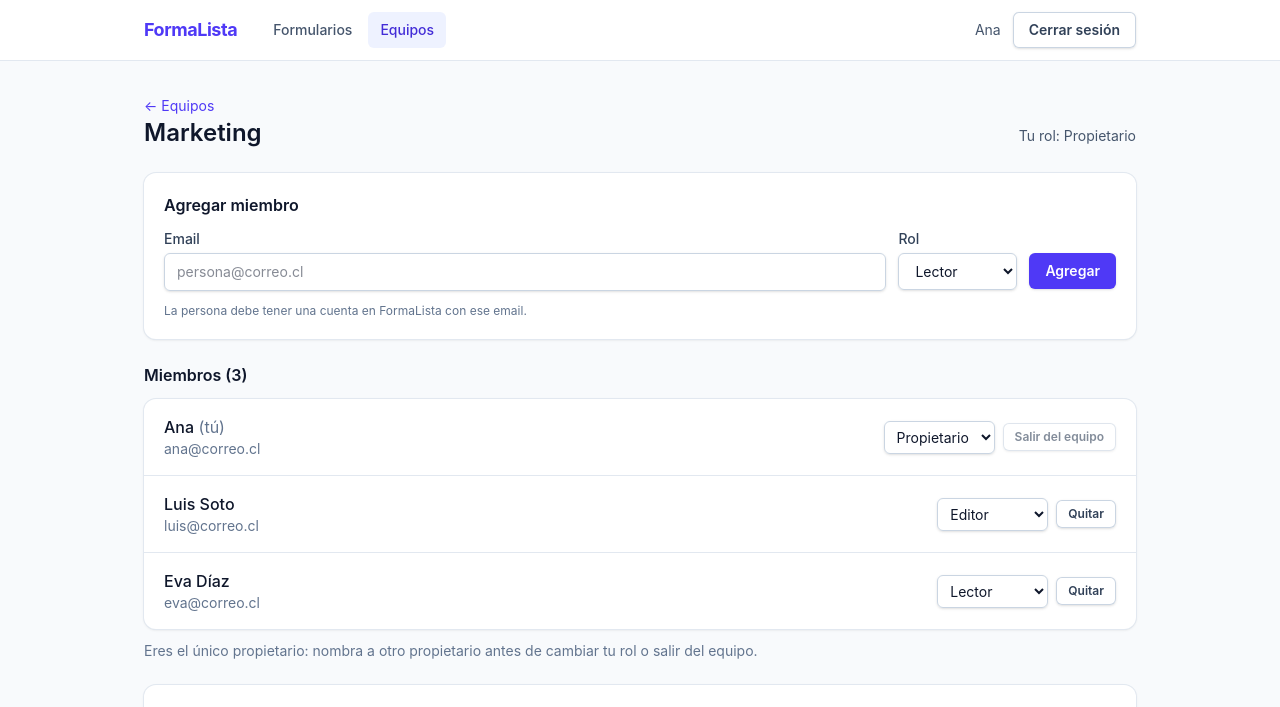
Test: Equipos: miembros (como propietaria) › agrega un miembro como Lector por defecto, lo anuncia y deja el foco en el email
The image size is (1280, 707).
Step 1. Type "pepe@correo.cl" into the field labelled "Email" → point(525, 272), box x1=164 y1=253 x2=886 y2=291
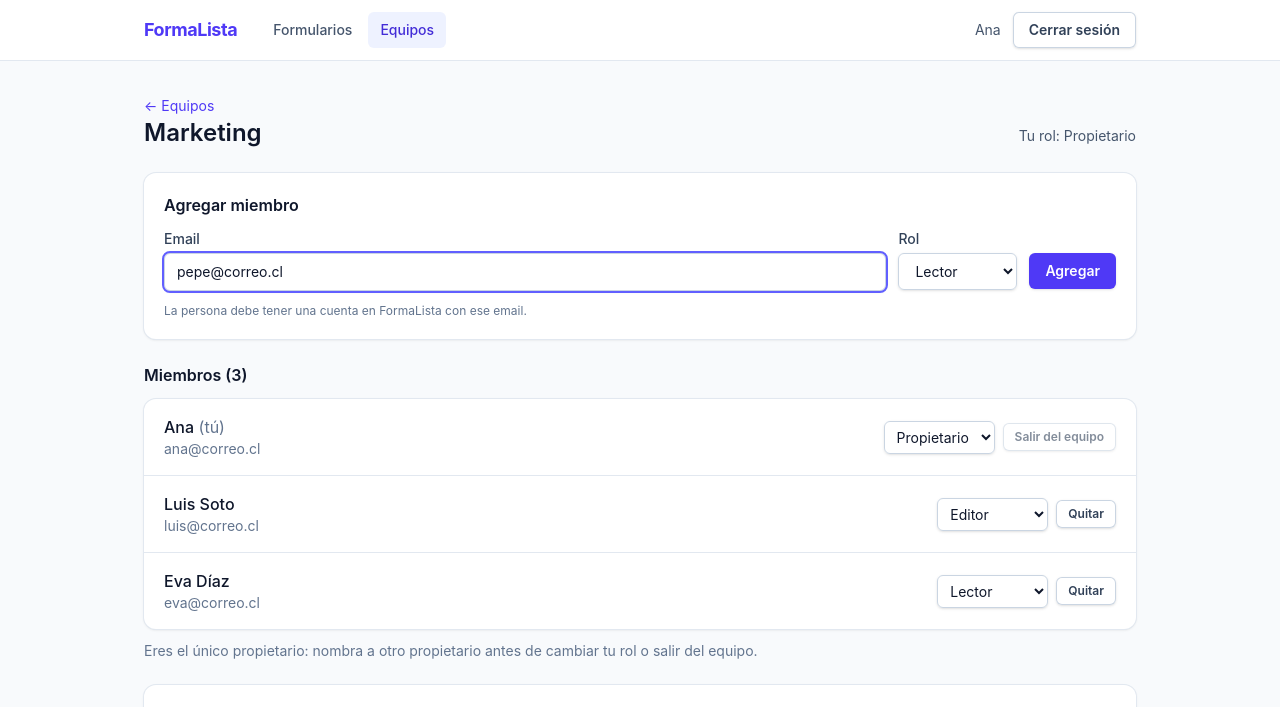
Step 2. Click the button "Agregar" → point(1073, 271), box x1=1029 y1=253 x2=1116 y2=289
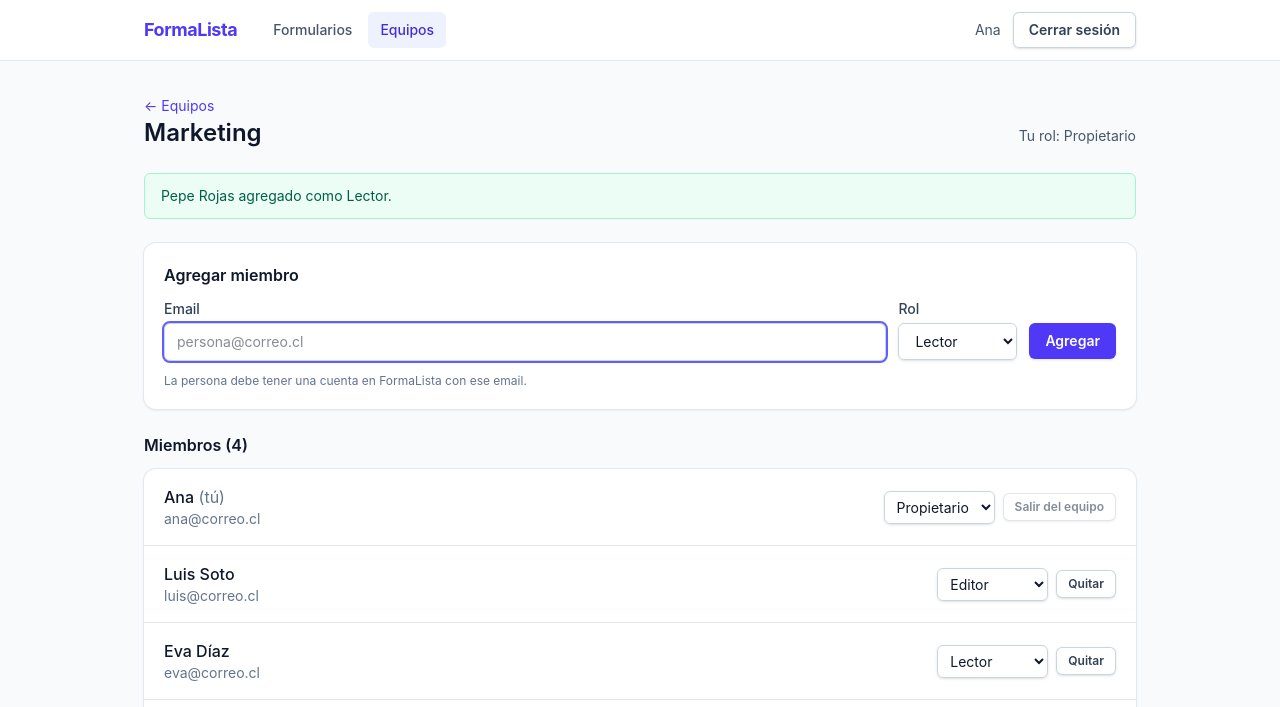
Check: the heading "Miembros (4)" is shown, box x1=144 y1=435 x2=248 y2=455
Check: the field labelled "Email" is empty, box x1=164 y1=323 x2=886 y2=361
